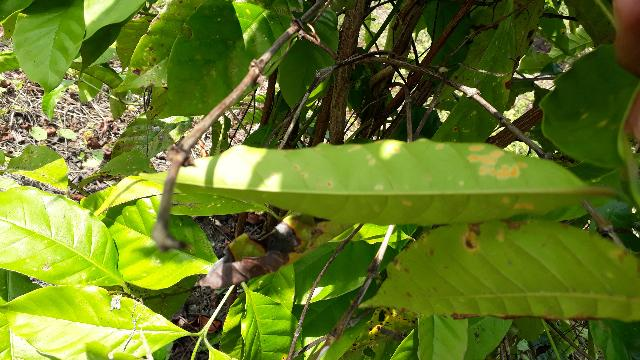rust_level_2: (54, 134, 497, 217)
